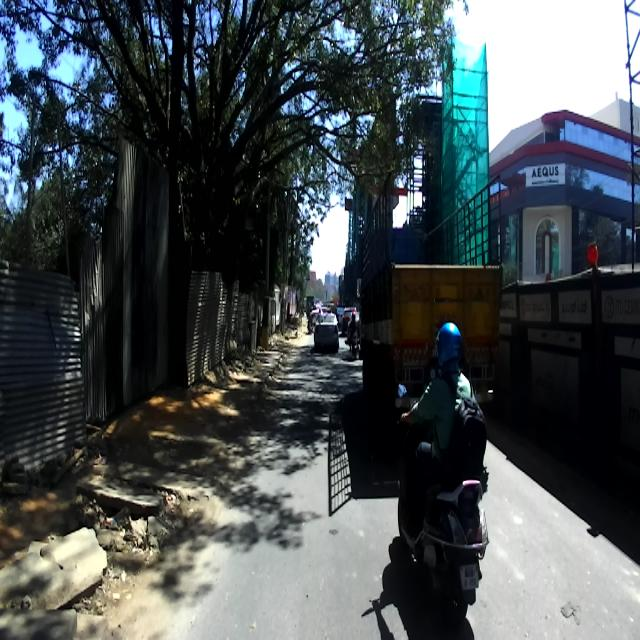motorcycle ahead at: (394, 470, 498, 628)
truck ahead at: (366, 136, 516, 416)
